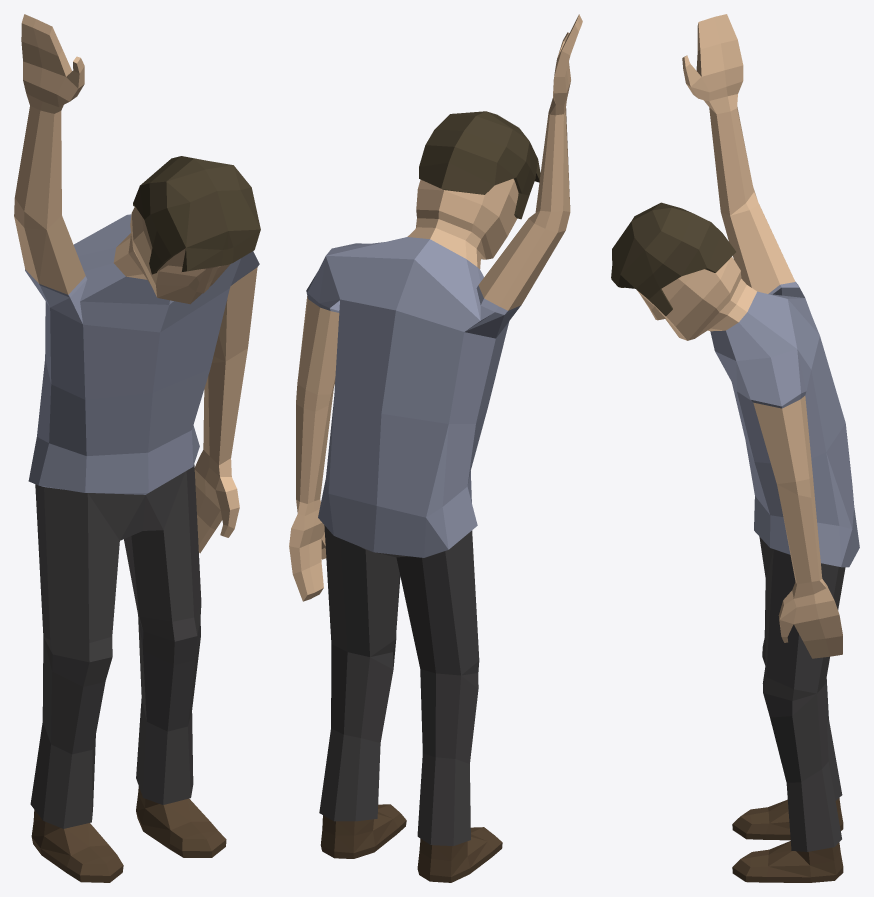
File: Male_Crowd_HeadBanging.glb
3 views of the same model, side by side, from view 1: azimuth 30°, elevation 25°; view 2: azimuth 150°, elevation 25°; view 3: azimuth 270°, elevation 25° (orthographic). The views are drawn at different scales.
Visible parts, largest first — view 1: Male_Crowd_HeadBanging; view 2: Male_Crowd_HeadBanging; view 3: Male_Crowd_HeadBanging.
Part boxes in pixels (bbox=[...]): Male_Crowd_HeadBanging: bbox=[14, 14, 260, 882]; Male_Crowd_HeadBanging: bbox=[289, 14, 582, 882]; Male_Crowd_HeadBanging: bbox=[611, 14, 859, 882].
Size of the model in its own units: 0.6248 by 2.05 by 0.5923.
